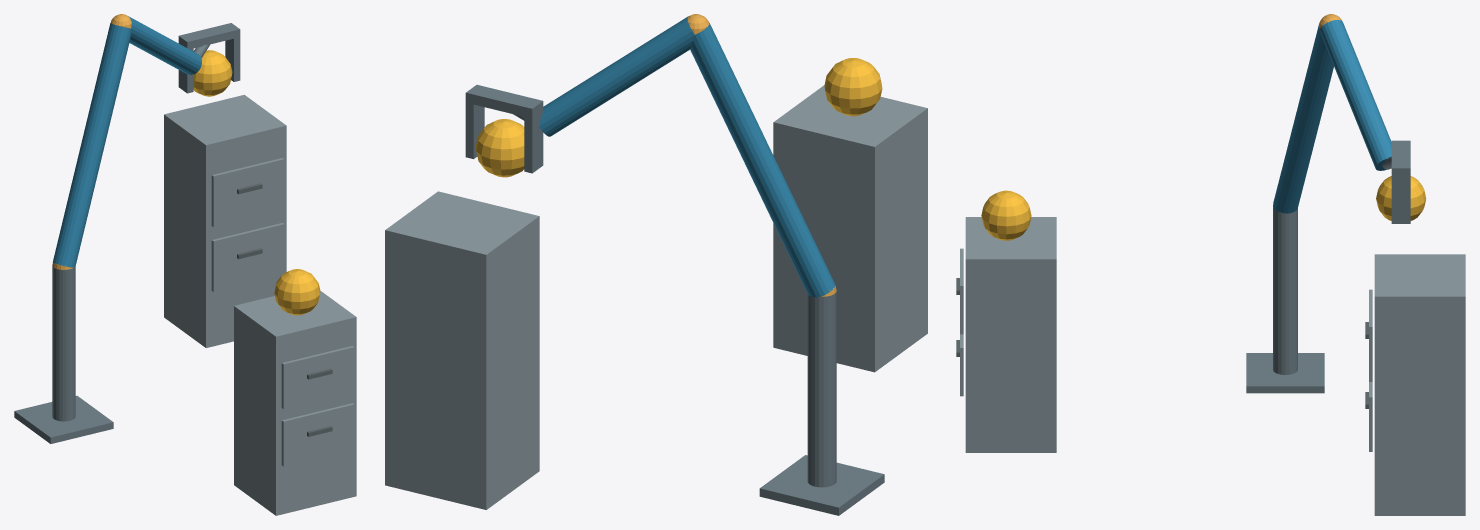
3 renders of one model, left to right at view 1: azimuth 30°, elevation 25°; view 2: azimuth 150°, elevation 25°; view 3: azimuth 270°, elevation 25°, orthographic. The views are drawn at different scales.
Parts seen in each view (by area): view 1: cabinet_2 body, cabinet_1 body, moving link 1, cabinet_2 drawer front.001, cabinet_2 drawer front, fixed post, cabinet_1 drawer front.001, cabinet_1 drawer front, pedestal, moving link 2, released ball_1, ball ball_2 (+2 smaller); view 2: cabinet_2 body, cabinet_1 body, moving link 1, fixed post, moving link 2, pedestal, released ball_1, ball ball_2, gripper bridge, gripper finger -1, gripper finger 1; view 3: cabinet_2 body, cabinet_1 body, moving link 1, fixed post, moving link 2, pedestal, released ball_1, ball ball_2, gripper finger 1, gripper bridge.
Part boxes in pixels (x1,y1,x2,y2): cabinet_2 body: (164,94,286,347); cabinet_1 body: (234,291,356,515); moving link 1: (52,23,131,267); cabinet_2 drawer front.001: (211,158,284,226); cabinet_2 drawer front: (211,223,284,291); fixed post: (52,264,75,421); cabinet_1 drawer front.001: (281,346,354,408); cabinet_1 drawer front: (281,403,354,466); pedestal: (14,395,113,443); moving link 2: (128,16,201,74); released ball_1: (274,269,320,315); ball ball_2: (193,50,232,96); cabinet_2 body: (385,191,539,509); cabinet_1 body: (773,85,927,372); moving link 1: (690,23,835,297); fixed post: (807,292,836,487); moving link 2: (539,16,694,136); pedestal: (759,455,884,515); released ball_1: (824,58,882,116); ball ball_2: (475,119,524,177); gripper bridge: (465,84,543,118); gripper finger -1: (524,111,543,173); gripper finger 1: (465,102,484,159); cabinet_2 body: (1374,254,1465,515); cabinet_1 body: (965,217,1056,452); moving link 1: (1273,23,1333,213); fixed post: (1273,207,1297,374); moving link 2: (1320,19,1391,170); pedestal: (1246,353,1324,393); released ball_1: (981,190,1031,240); ball ball_2: (1376,176,1426,220); gripper finger 1: (1391,177,1410,223); gripper bridge: (1391,140,1410,176).
Bounding box in the file's own units: 1.17 × 1.42 × 1.62.
